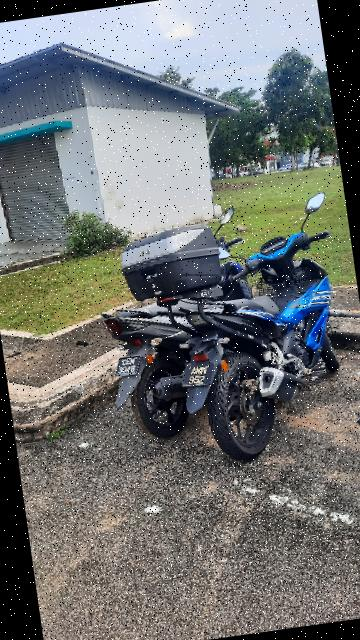License_Plate: (176, 359, 219, 391), (112, 353, 146, 379)
motorcycle: (115, 204, 360, 476), (80, 263, 263, 446)
